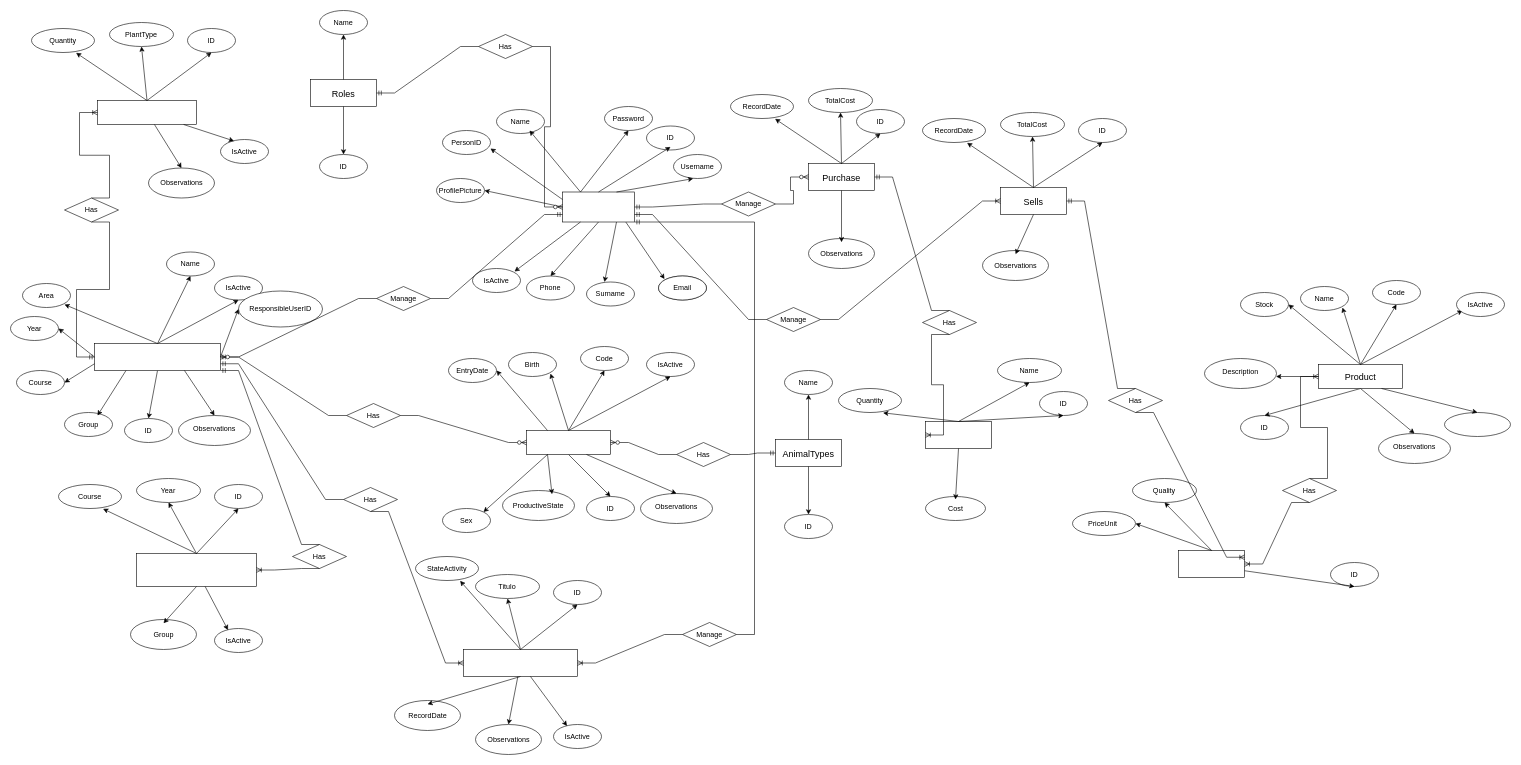
Some shapes in this 1521 by 765 pixel diagram are drawn without their labels. Each missing label, with the centre of its shape:
"ActivityRecord" belongs at point (520, 662).
"Animals" belongs at point (568, 442).
"DetailSells" belongs at point (1211, 564).
"FormativeEnvironmentData" belongs at point (196, 569).
"FormativeEnvironments" belongs at point (157, 356).
"PurchaseItem" belongs at point (958, 434).
"UnitPrice" belongs at point (1477, 424).
"Users" belongs at point (598, 206).
"Vegetable" belongs at point (146, 112).
